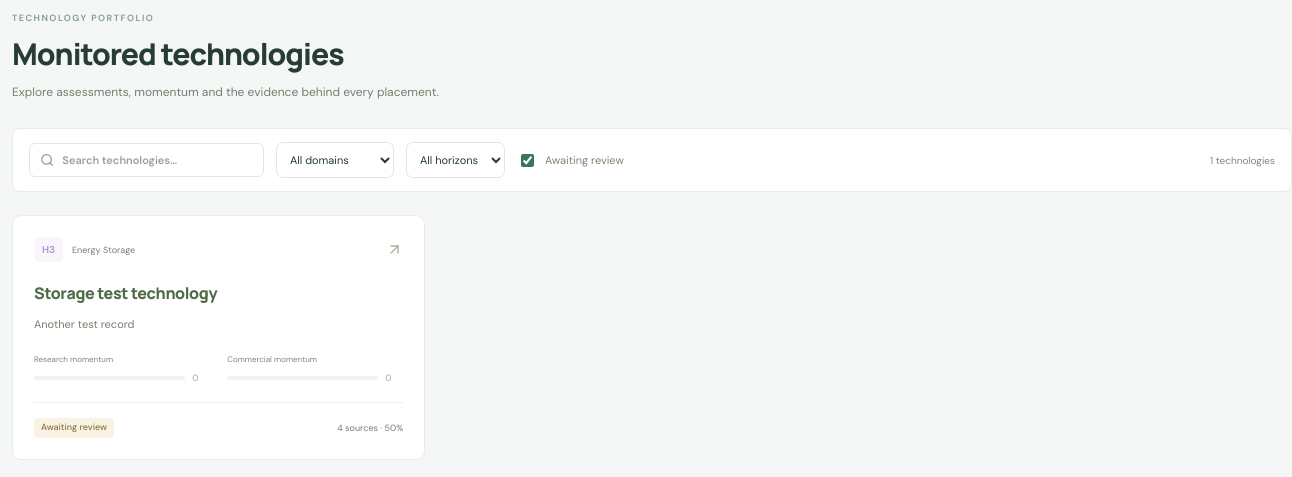
Test case: technology portfolio filters › honors the analyst review queue link and horizon filtering
Expected: the checkbox labelled "Awaiting review" is checked, [521,154,534,167]
Select "H1" in the dropdown named "Horizon": (456, 160) [406,142,505,178]
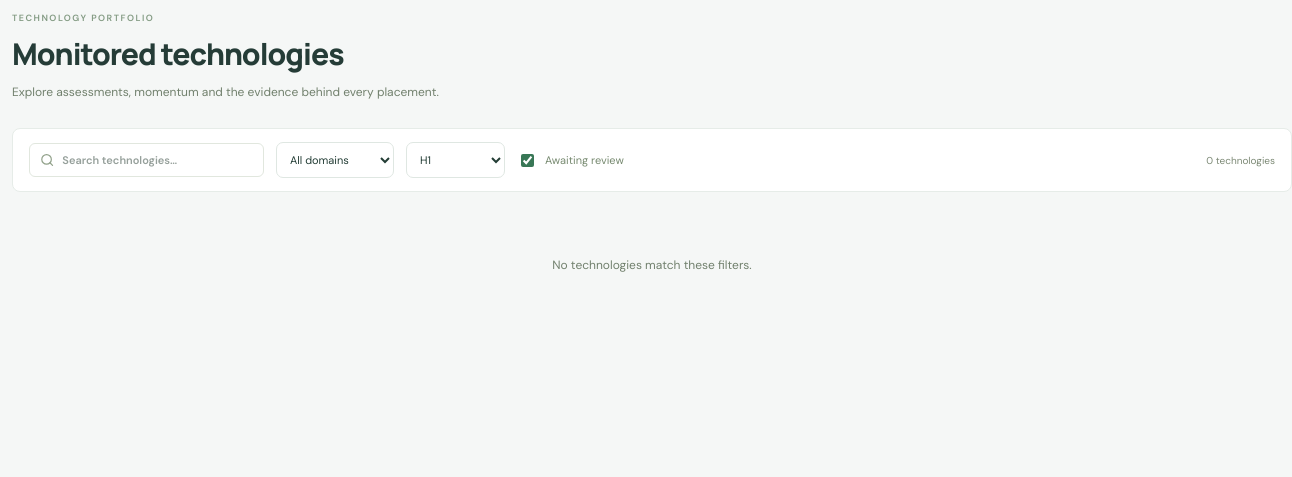
Expected: the text "No technologies match these filters." is shown, [552,257,752,273]
